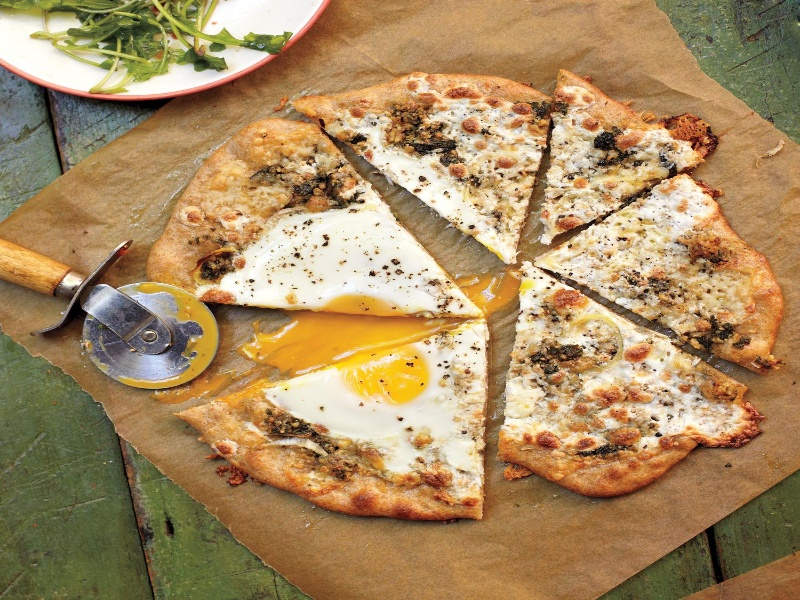oeuf: (332, 342, 444, 409)
